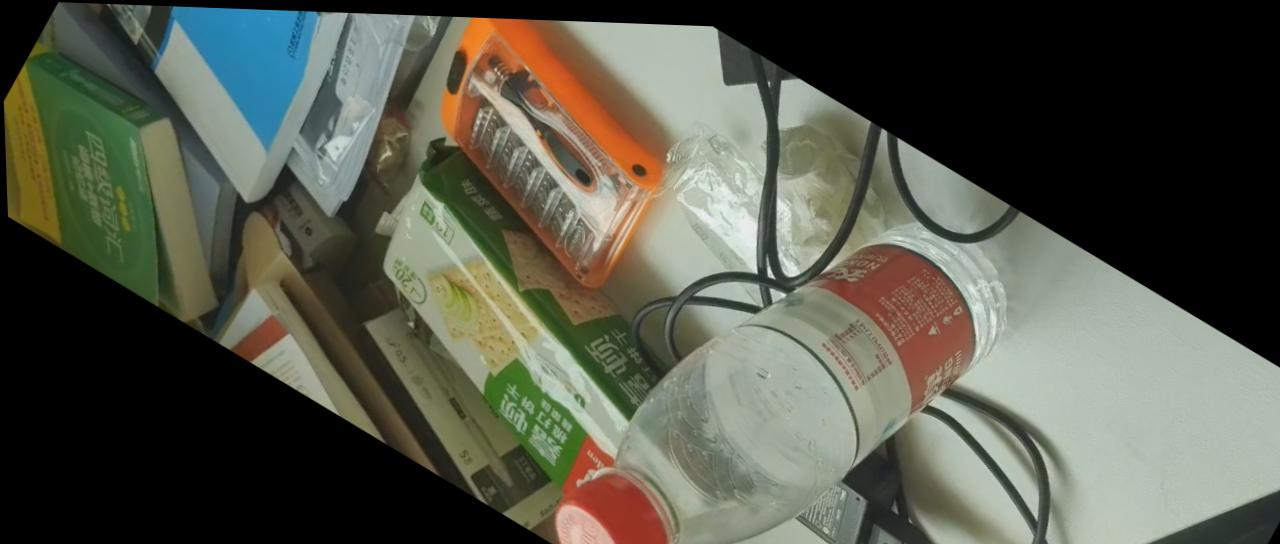plastic: (495, 86, 1048, 543)
